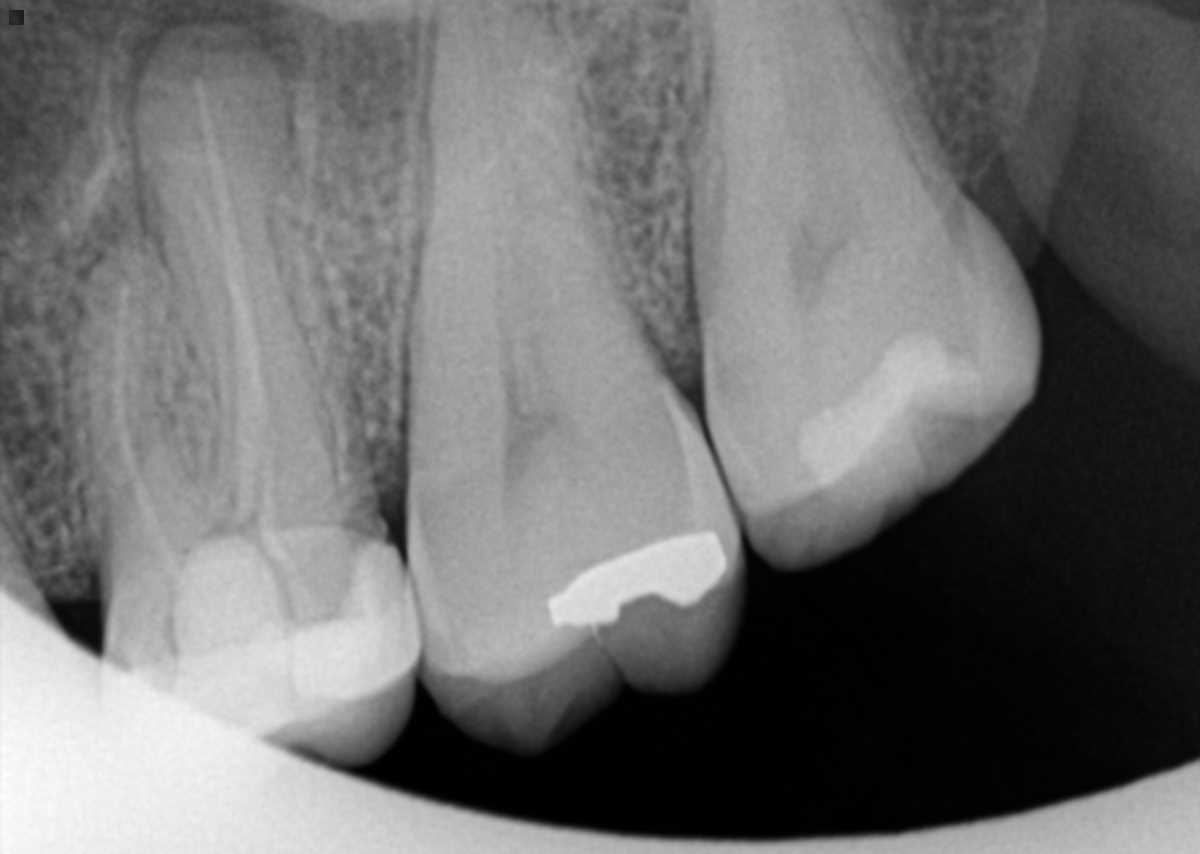Apical Lesion: (101, 0, 308, 124), (71, 153, 174, 278)
Distal Root: (153, 144, 340, 509)
Main Canal: (495, 153, 519, 387)
Main Root: (408, 0, 648, 401), (684, 0, 928, 294)
Mesial Root: (70, 234, 207, 577)
Palatal Root: (131, 16, 386, 546)
Root Canal Filling: (195, 77, 270, 526), (196, 197, 279, 534), (114, 285, 178, 576)
